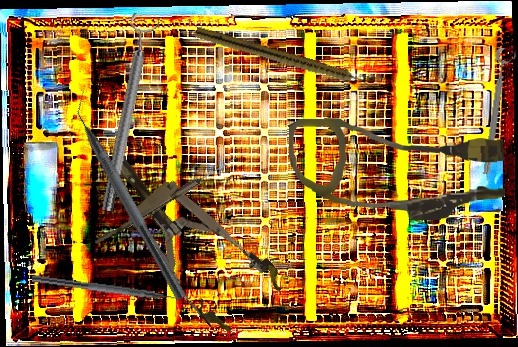Cannula: (288, 112, 506, 225)
Chopper: (61, 87, 200, 302), (30, 274, 189, 312)
Fixation Ring: (90, 12, 163, 214), (479, 47, 518, 176)
Handpiece: (193, 26, 372, 91)
Speculum: (83, 126, 289, 342)
Surgical Spoon: (94, 154, 238, 248)
